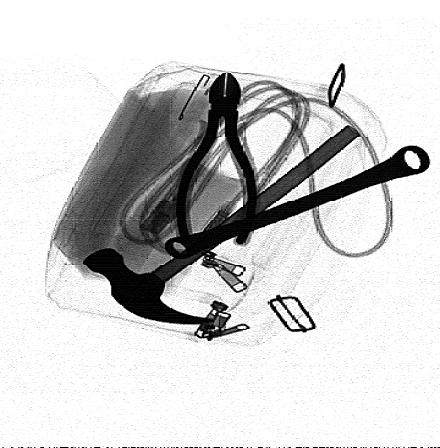Hammer: (79, 123, 364, 325)
Pliers: (173, 72, 258, 251)
Wrench: (164, 143, 430, 259)
